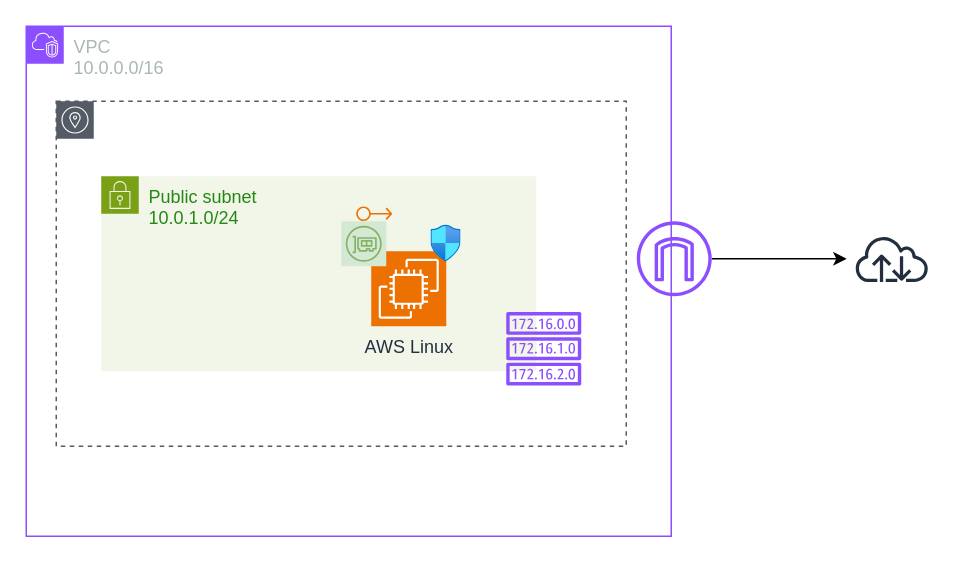
Image size: 963x563. Some labels were removed from this diagram. The box of each missing label's shape, as (x1, y1, x2, y2) in pixels:
eu-west-2a: (55, 100, 626, 446)
Internet: (845, 212, 937, 304)
